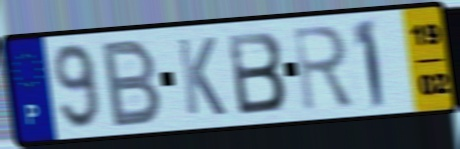1: (351, 17, 388, 110)
9: (50, 41, 104, 132)
B: (100, 36, 165, 131), (224, 29, 289, 118)
K: (174, 35, 229, 118)
R: (290, 22, 357, 114)
